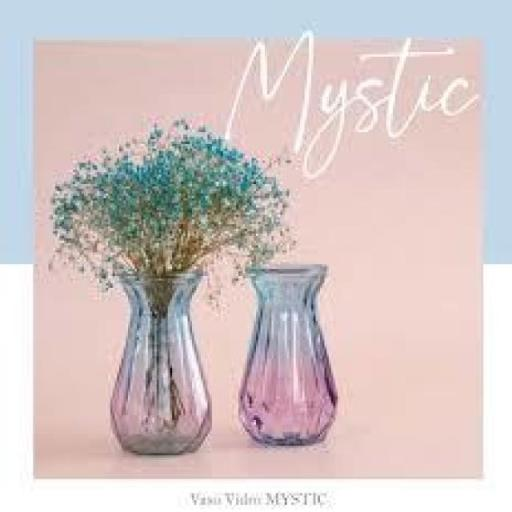glass: (108, 268, 214, 457), (237, 265, 335, 446)
